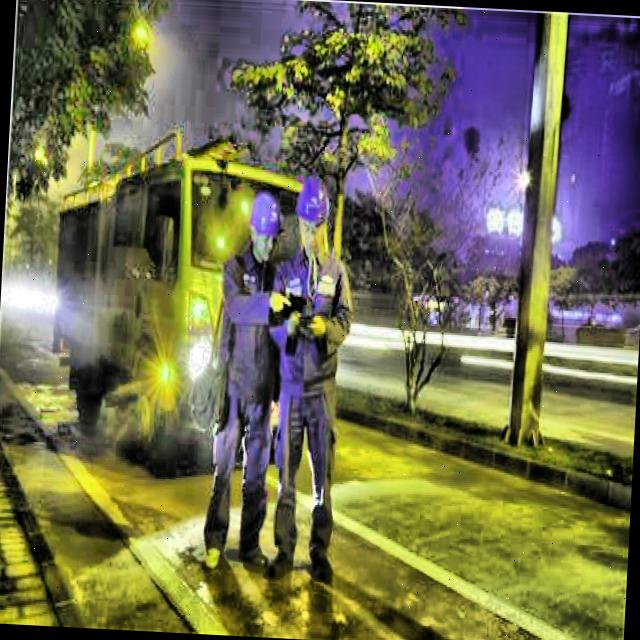helmet: (292, 174, 332, 254), (246, 192, 284, 260)
